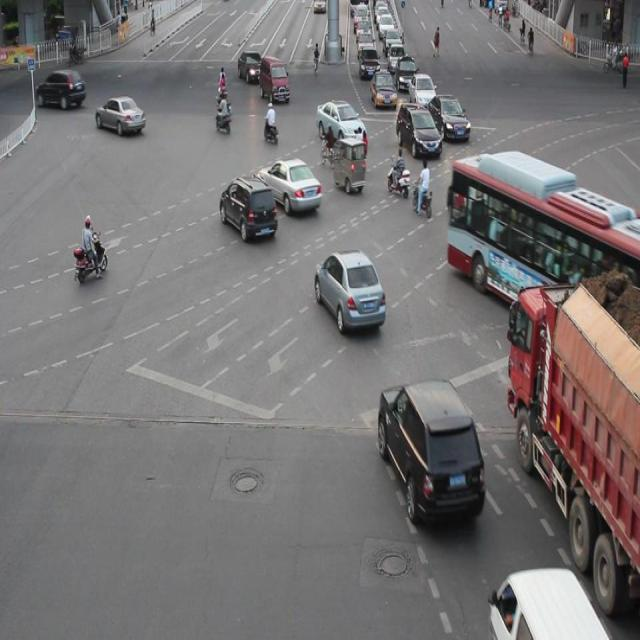bus: (506, 283, 640, 602)
car: (378, 378, 484, 524), (315, 248, 385, 330), (219, 175, 277, 242), (496, 156, 556, 216), (258, 158, 322, 213), (394, 103, 440, 158), (314, 100, 365, 147), (95, 95, 146, 137), (425, 94, 469, 141)
truck: (486, 564, 609, 640)
van: (446, 152, 640, 319)
